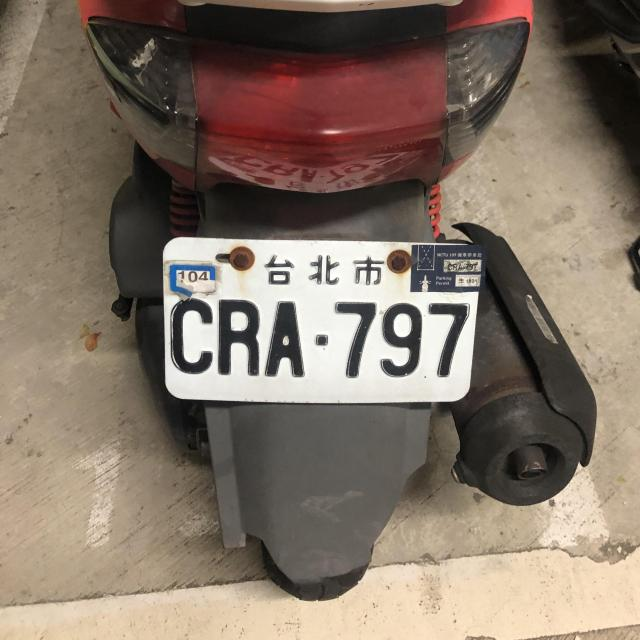W: (159, 229, 484, 406)
